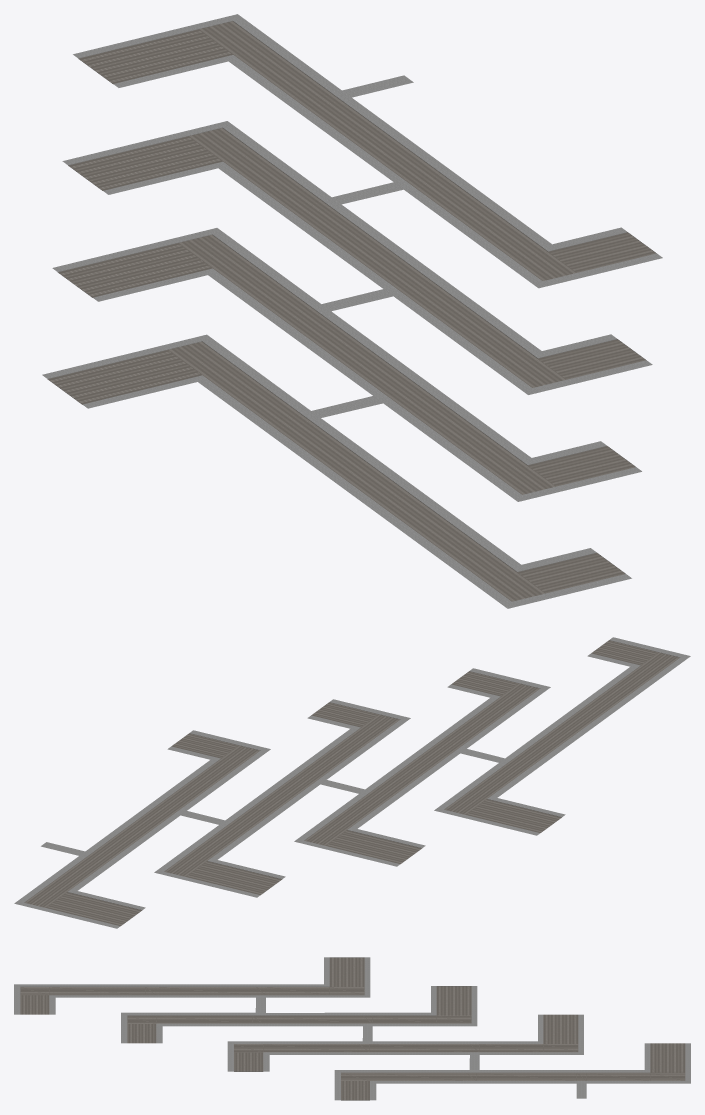
Rendered from Road.obj.
3 views of the same model, one above another, from view 1: azimuth 30°, elevation 25°; view 2: azimuth 150°, elevation 25°; view 3: azimuth 270°, elevation 25° (orthographic). The views are drawn at different scales.
Parts seen in each view (by area): view 1: Plane_Material.005, Plane_Material.003; view 2: Plane_Material.005, Plane_Material.003; view 3: Plane_Material.005, Plane_Material.003.
Boxes of the visible parts, x1=… form: Plane_Material.005: x1=48, y1=21, x2=656, y2=601; Plane_Material.003: x1=42, y1=14, x2=662, y2=608; Plane_Material.005: x1=24, y1=640, x2=679, y2=925; Plane_Material.003: x1=14, y1=637, x2=690, y2=928; Plane_Material.005: x1=20, y1=957, x2=685, y2=1100; Plane_Material.003: x1=14, y1=957, x2=690, y2=1100.
Bounding box in the file's own units: 435 × 0.1839 × 872.
Materials: 2 (2 with a texture image).
